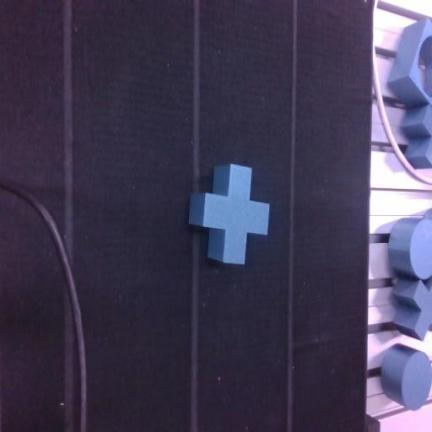cross: (189, 164, 269, 264), (394, 278, 431, 340)
